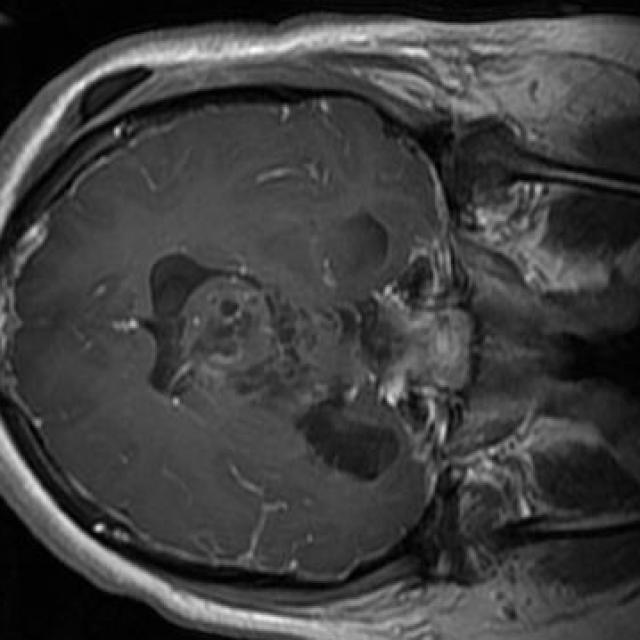glioma: (135, 253, 398, 481)
